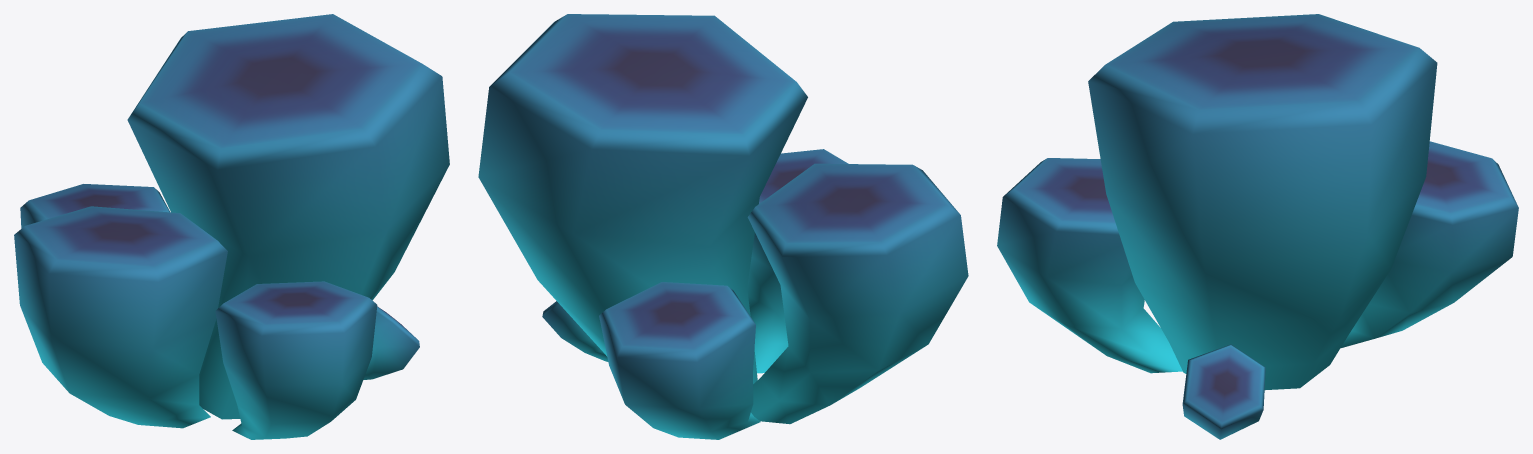
File: Plants_022.fbx
3 renders of one model, left to right at view 1: azimuth 30°, elevation 25°; view 2: azimuth 150°, elevation 25°; view 3: azimuth 270°, elevation 25°, orthographic. The views are drawn at different scales.
Parts seen in each view (by area): view 1: Plants.022; view 2: Plants.022; view 3: Plants.022.
Part boxes in pixels (x1,y1,x2,y2): Plants.022: [14, 14, 449, 439]; Plants.022: [478, 14, 968, 439]; Plants.022: [997, 14, 1518, 439].
Bounding box in the file's own units: 492 × 359 × 495.
